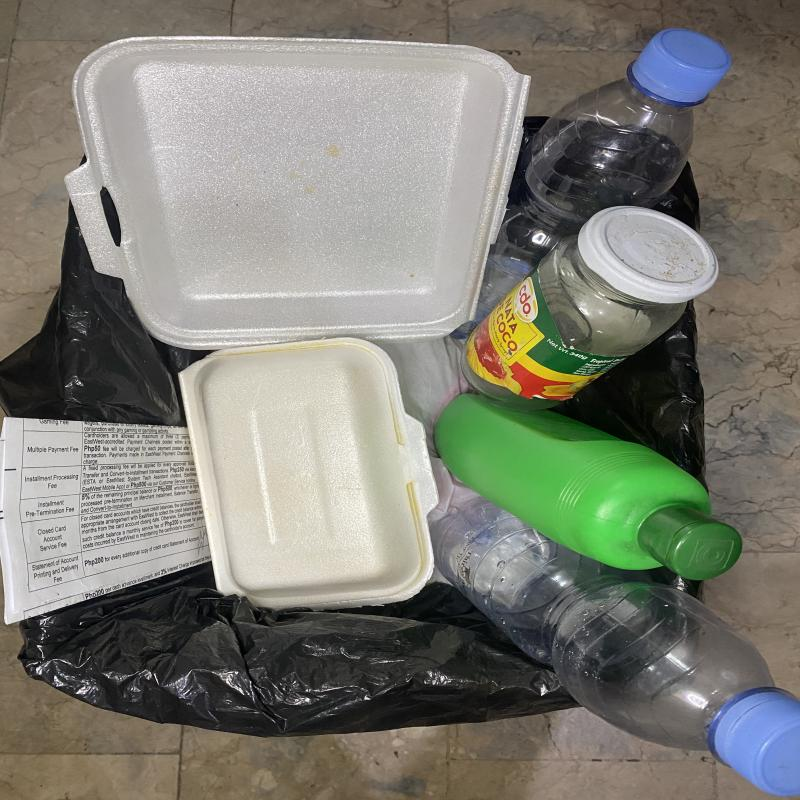glass bottle: (461, 206, 719, 412)
paper: (1, 417, 211, 625)
plastic bottle: (427, 455, 800, 798), (449, 28, 733, 344), (434, 393, 743, 582)
styrofoam containers: (65, 37, 534, 352), (178, 338, 439, 611)
